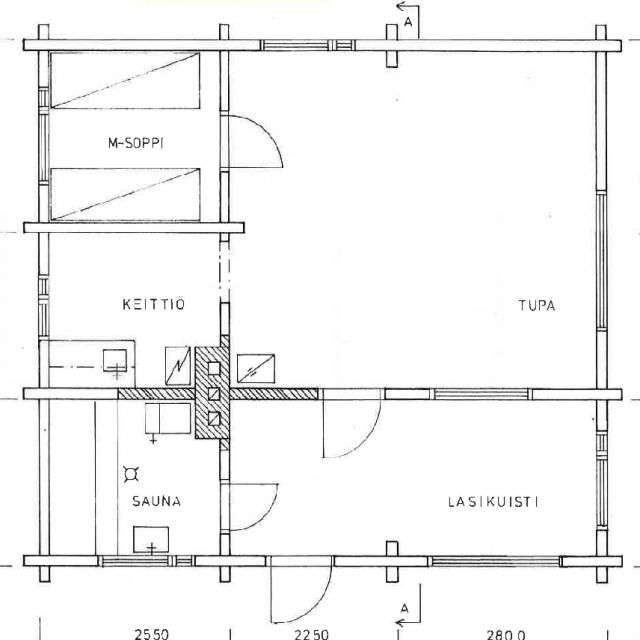door: (270, 556, 330, 630), (323, 389, 380, 459), (219, 116, 279, 166), (219, 484, 274, 530)
